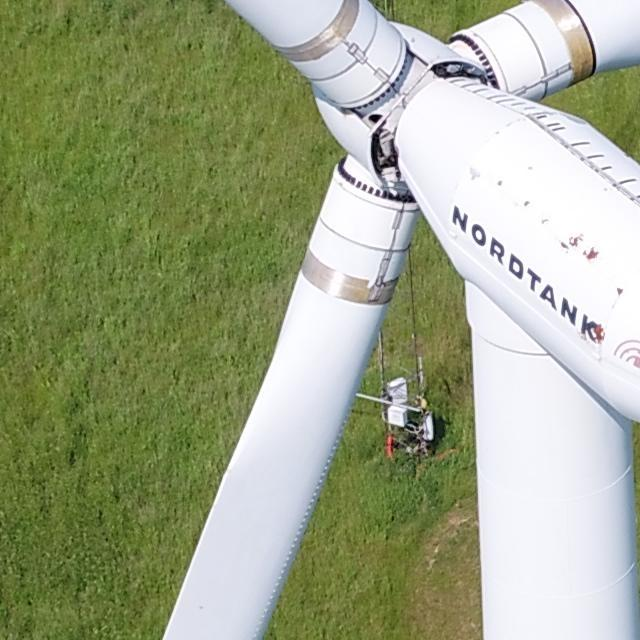damage: (593, 322, 606, 345), (469, 166, 484, 183), (584, 246, 600, 261), (568, 232, 584, 247), (558, 240, 572, 251), (615, 286, 625, 298), (495, 179, 504, 187), (522, 198, 530, 207)
